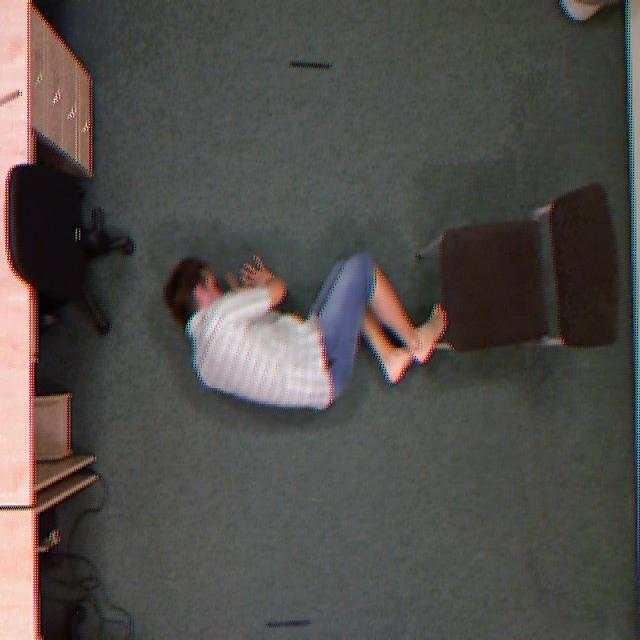fall: (162, 231, 450, 424)
